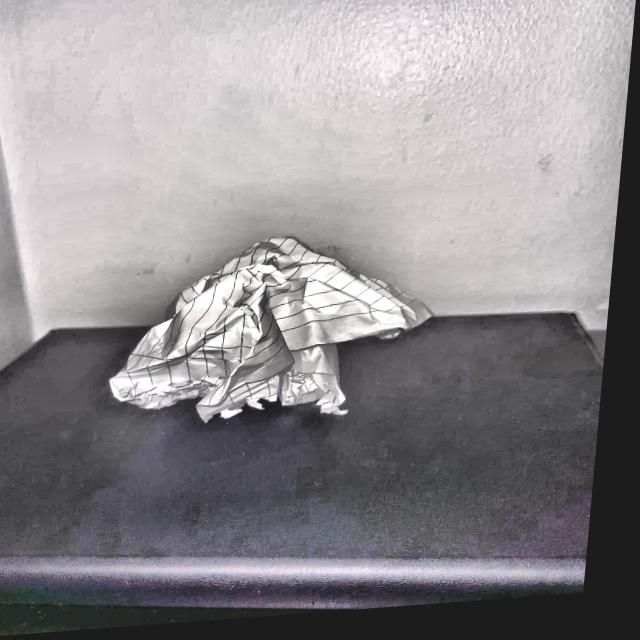Paper: (104, 243, 451, 438)
